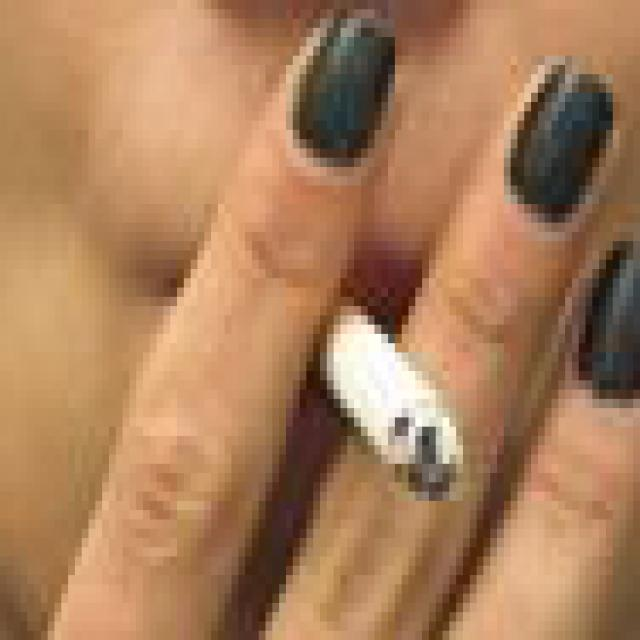smoking: (316, 292, 459, 501)
